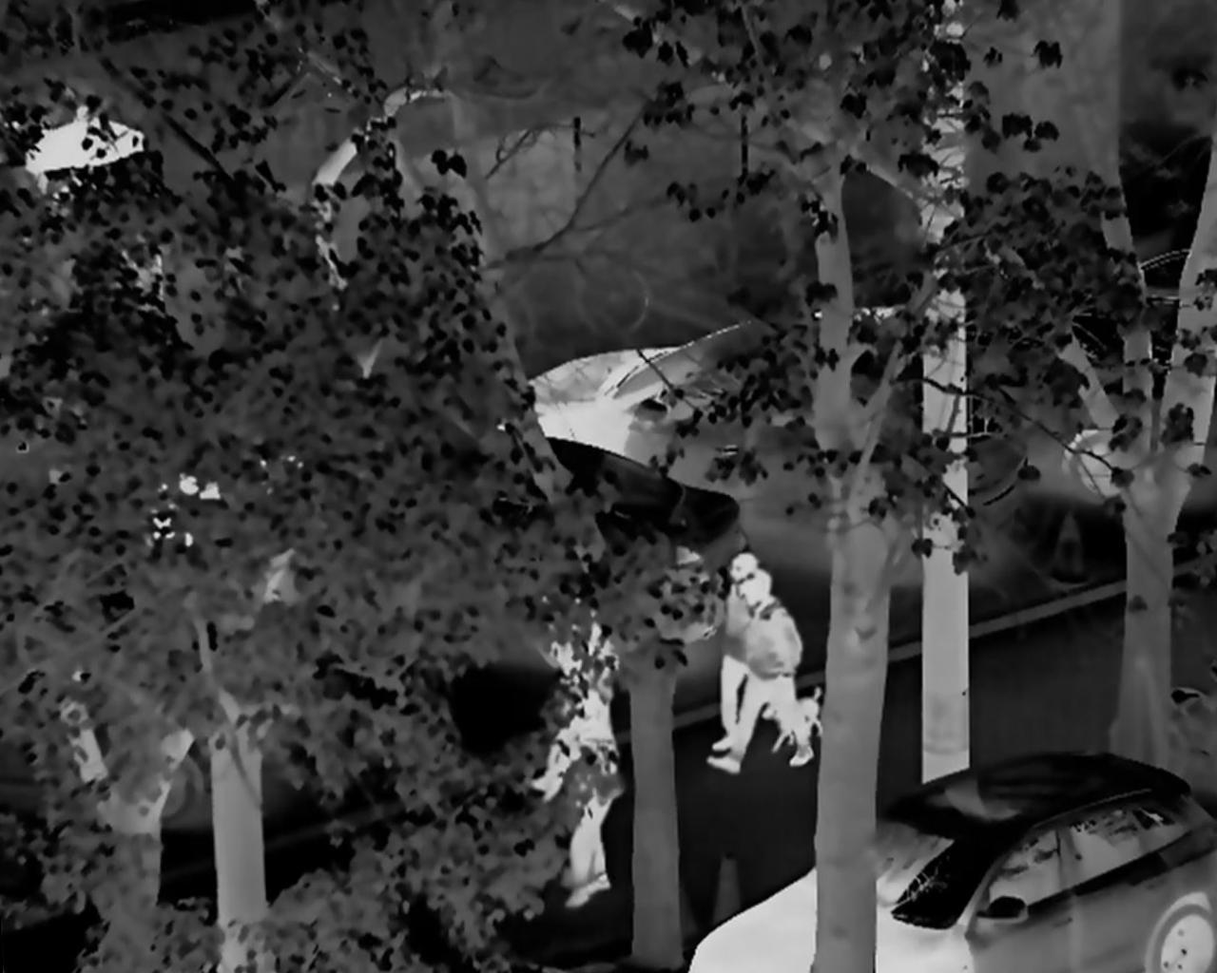person: (711, 573, 821, 777), (546, 672, 623, 915), (705, 548, 784, 759)
